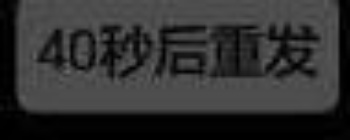Button: (1, 1, 349, 139)
